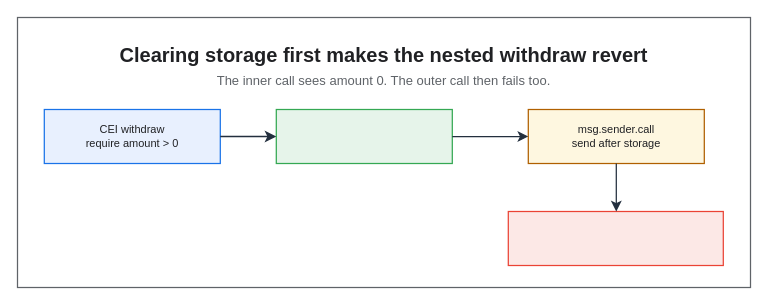
The diagram is 769 pixels wide and 306 high, and some of its shapes have lost their labels. The centre of each missing label's shape, as x and y in pixels:
"balances = 0 effect before call" goes at pixel 363 136.
"nested withdraw revert empty, then send failed" goes at pixel 615 238.
